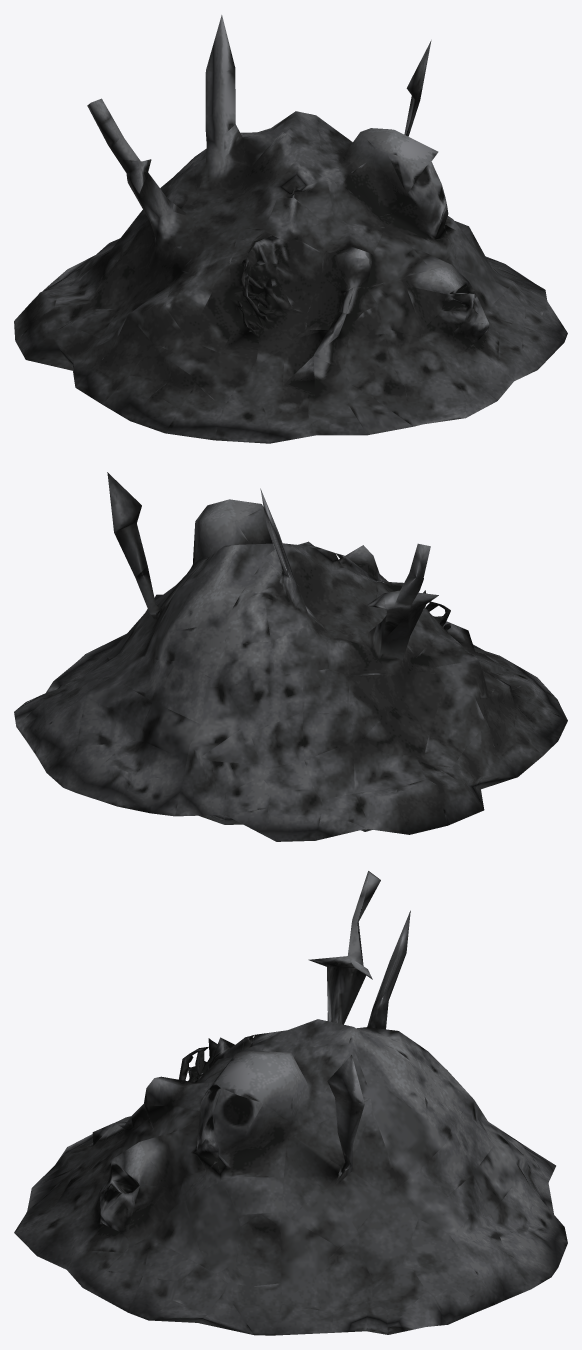
The model's file is ash_pile.glb.
3 renders of one model, top to bottom at view 1: azimuth 30°, elevation 25°; view 2: azimuth 150°, elevation 25°; view 3: azimuth 270°, elevation 25°, orthographic. The views are drawn at different scales.
Bounding box in the file's own units: 1.98 × 1.18 × 1.96.
1 material, 1 textured.
